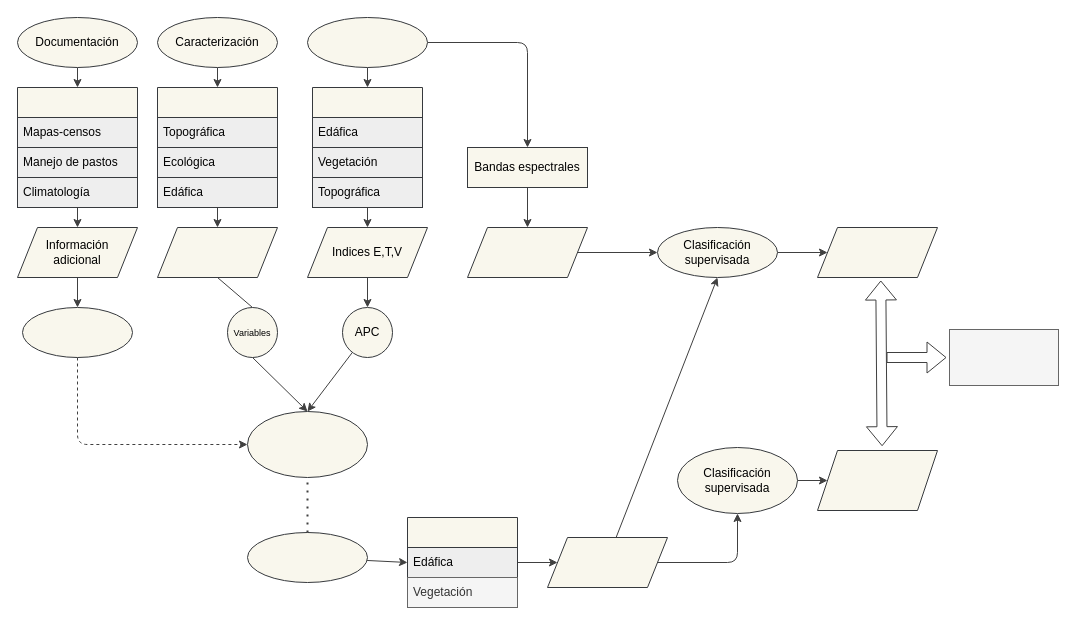
Image size: 1076x625. Some labels were removed from this diagram. Here are the shapes that lost their labels. From the top down, the box of each, then its label:
(306, 16, 428, 68): Adquisión de IS
(156, 226, 278, 278): Caracterización de pastos
(466, 226, 588, 278): Indices de degradación
(816, 226, 938, 278): Mapa de degradación
(22, 306, 132, 358): Criterios de categorización
(948, 328, 1058, 386): Clasificación y estado de degradación
(246, 410, 368, 478): Clasificación no supervisada
(816, 450, 938, 510): Distribución espacial de pastos
(246, 532, 368, 582): Muestreo en campo
(546, 536, 668, 588): Data para validación
